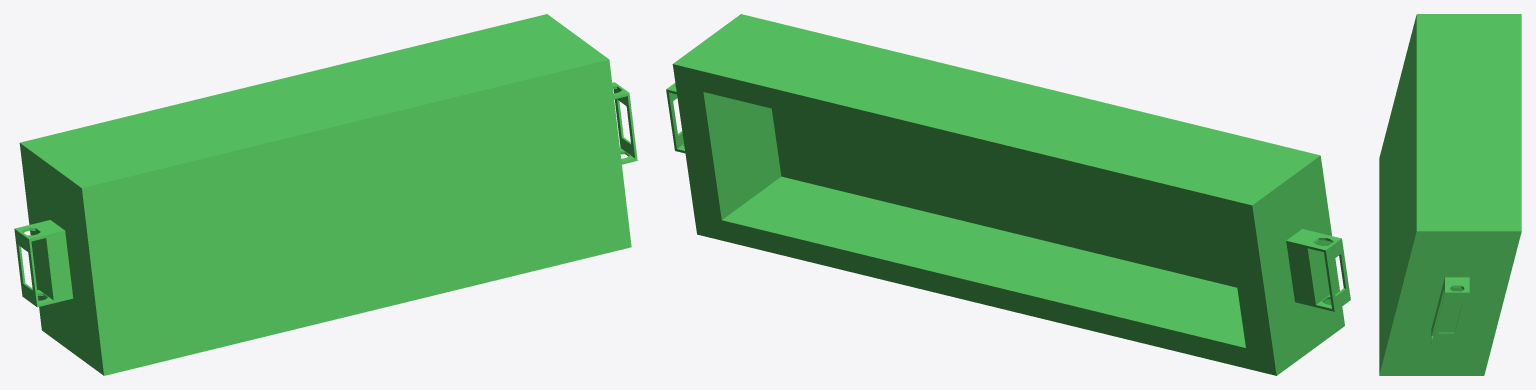
Rendered from Shelf_lo.fbx.
3 renders of one model, left to right at view 1: azimuth 30°, elevation 25°; view 2: azimuth 150°, elevation 25°; view 3: azimuth 270°, elevation 25°, orthographic. The views are drawn at different scales.
Visible parts, largest first — view 1: shelf_LOD0; view 2: shelf_LOD0; view 3: shelf_LOD0.
Part boxes in pixels (left/top/right/bottom): shelf_LOD0: left=14, top=14, right=637, bottom=375; shelf_LOD0: left=666, top=14, right=1350, bottom=375; shelf_LOD0: left=1379, top=14, right=1521, bottom=375.
Size of what is drawn, in the model's own units: 3.25 by 0.887 by 0.792.
